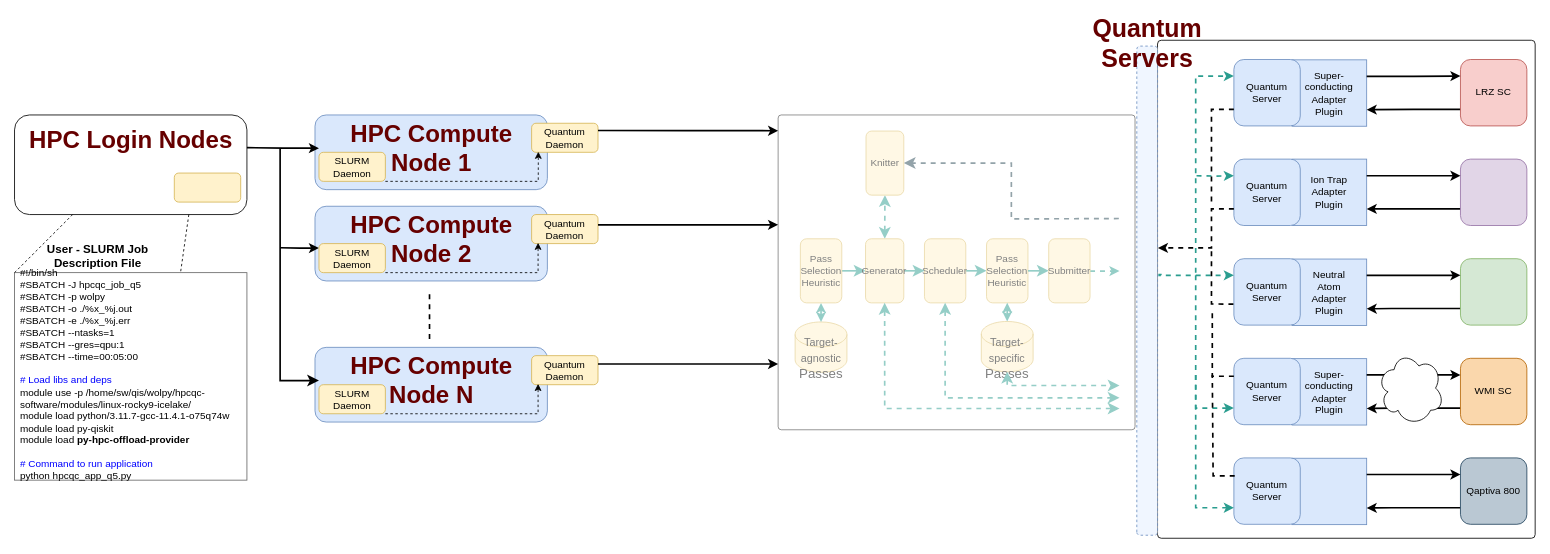
This 1550x554 diagram has some shape labels left out. The shapes that lost their labels are listed below. From the top down, each one's centre as x and y in pixels, then its label:
point (207, 187): SLURM Controller
point (1493, 192): LRZ IT
point (956, 272): QRM
point (1147, 290): QDMI
point (1493, 291): LRZ NA
point (1329, 491): Simulator Plugin
